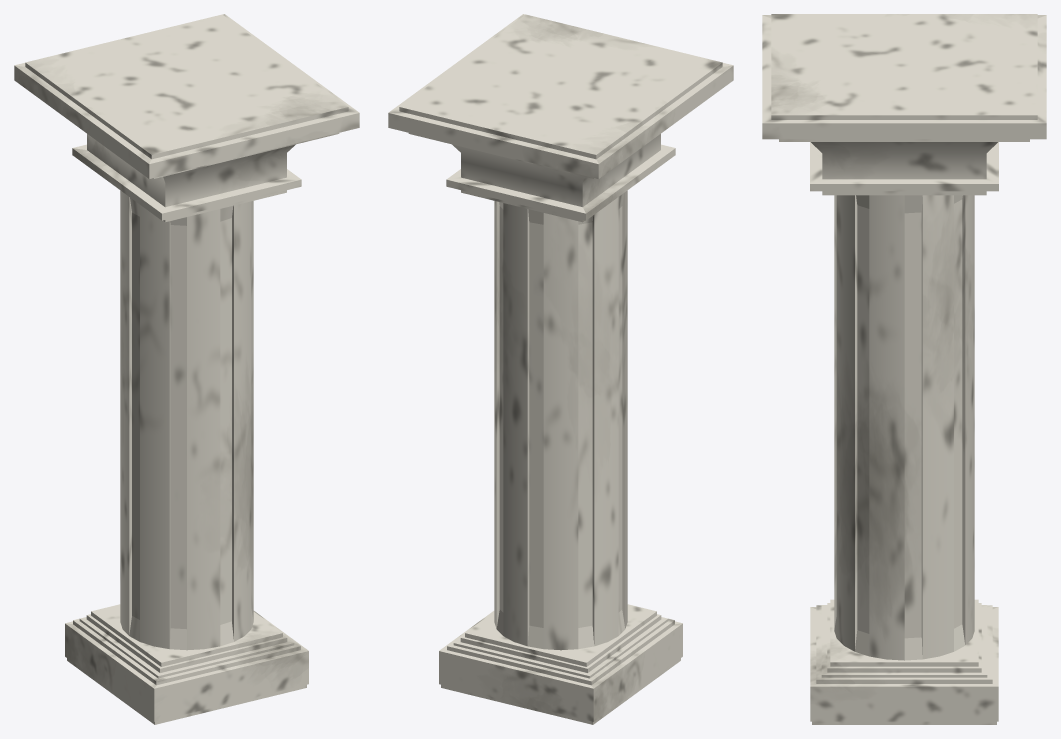
File: pillar.fbx
3 renders of one model, left to right at view 1: azimuth 30°, elevation 25°; view 2: azimuth 150°, elevation 25°; view 3: azimuth 270°, elevation 25°, orthographic. The views are drawn at different scales.
Visible parts, largest first — view 1: pillar1; view 2: pillar1; view 3: pillar1.
Part boxes in pixels (box(x1,y1,x2,y2)): pillar1: box(14, 14, 359, 724); pillar1: box(388, 14, 733, 724); pillar1: box(762, 14, 1046, 724).
Bounding box in the file's own units: 77.31 × 207 × 85.9.
1 material, 1 textured.
